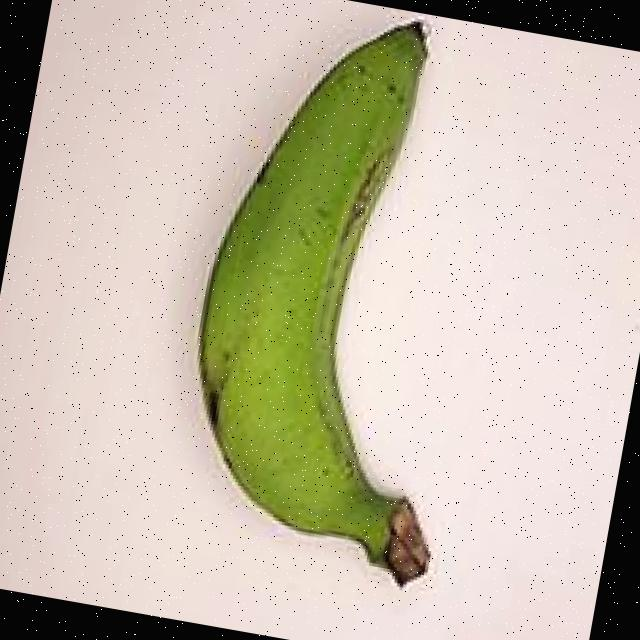Raw: (137, 0, 538, 605)
